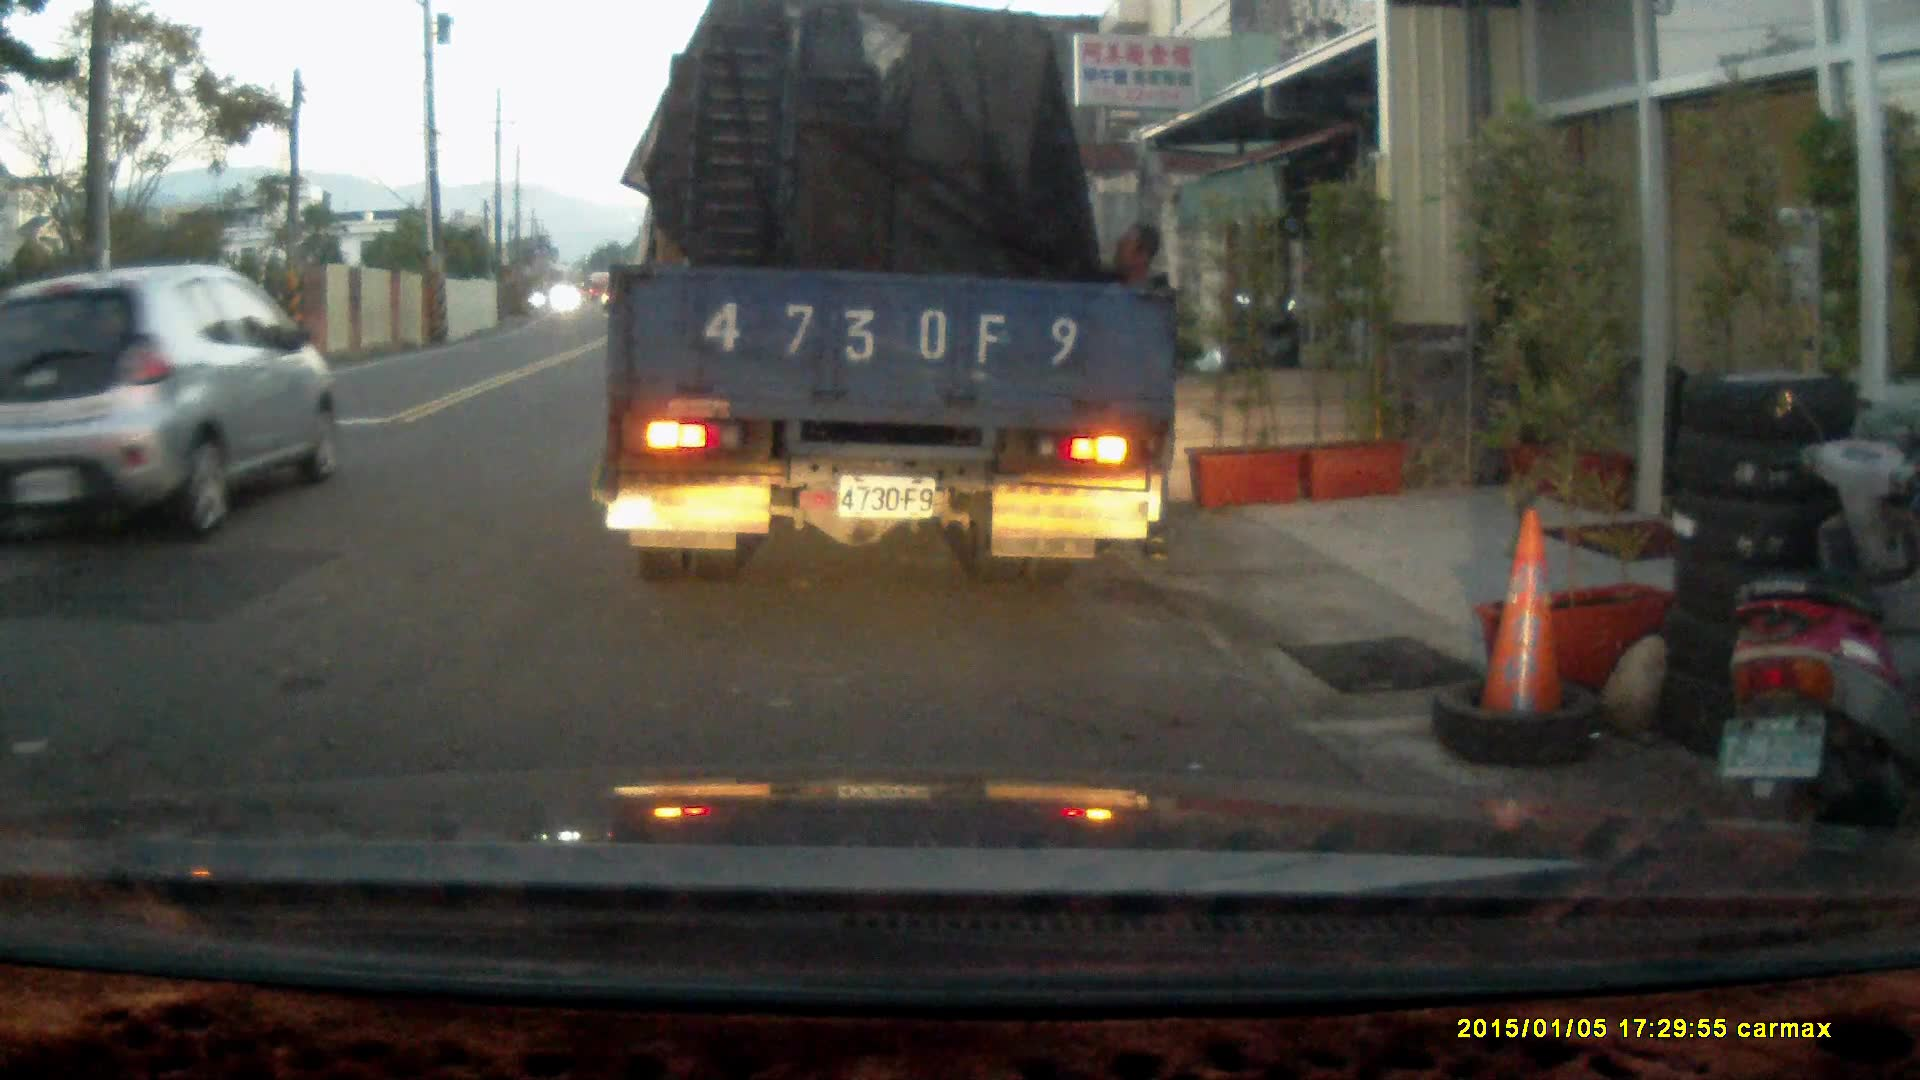pedestrian: (1084, 221, 1185, 567)
vehicle: (601, 23, 1185, 572), (0, 266, 341, 545)
